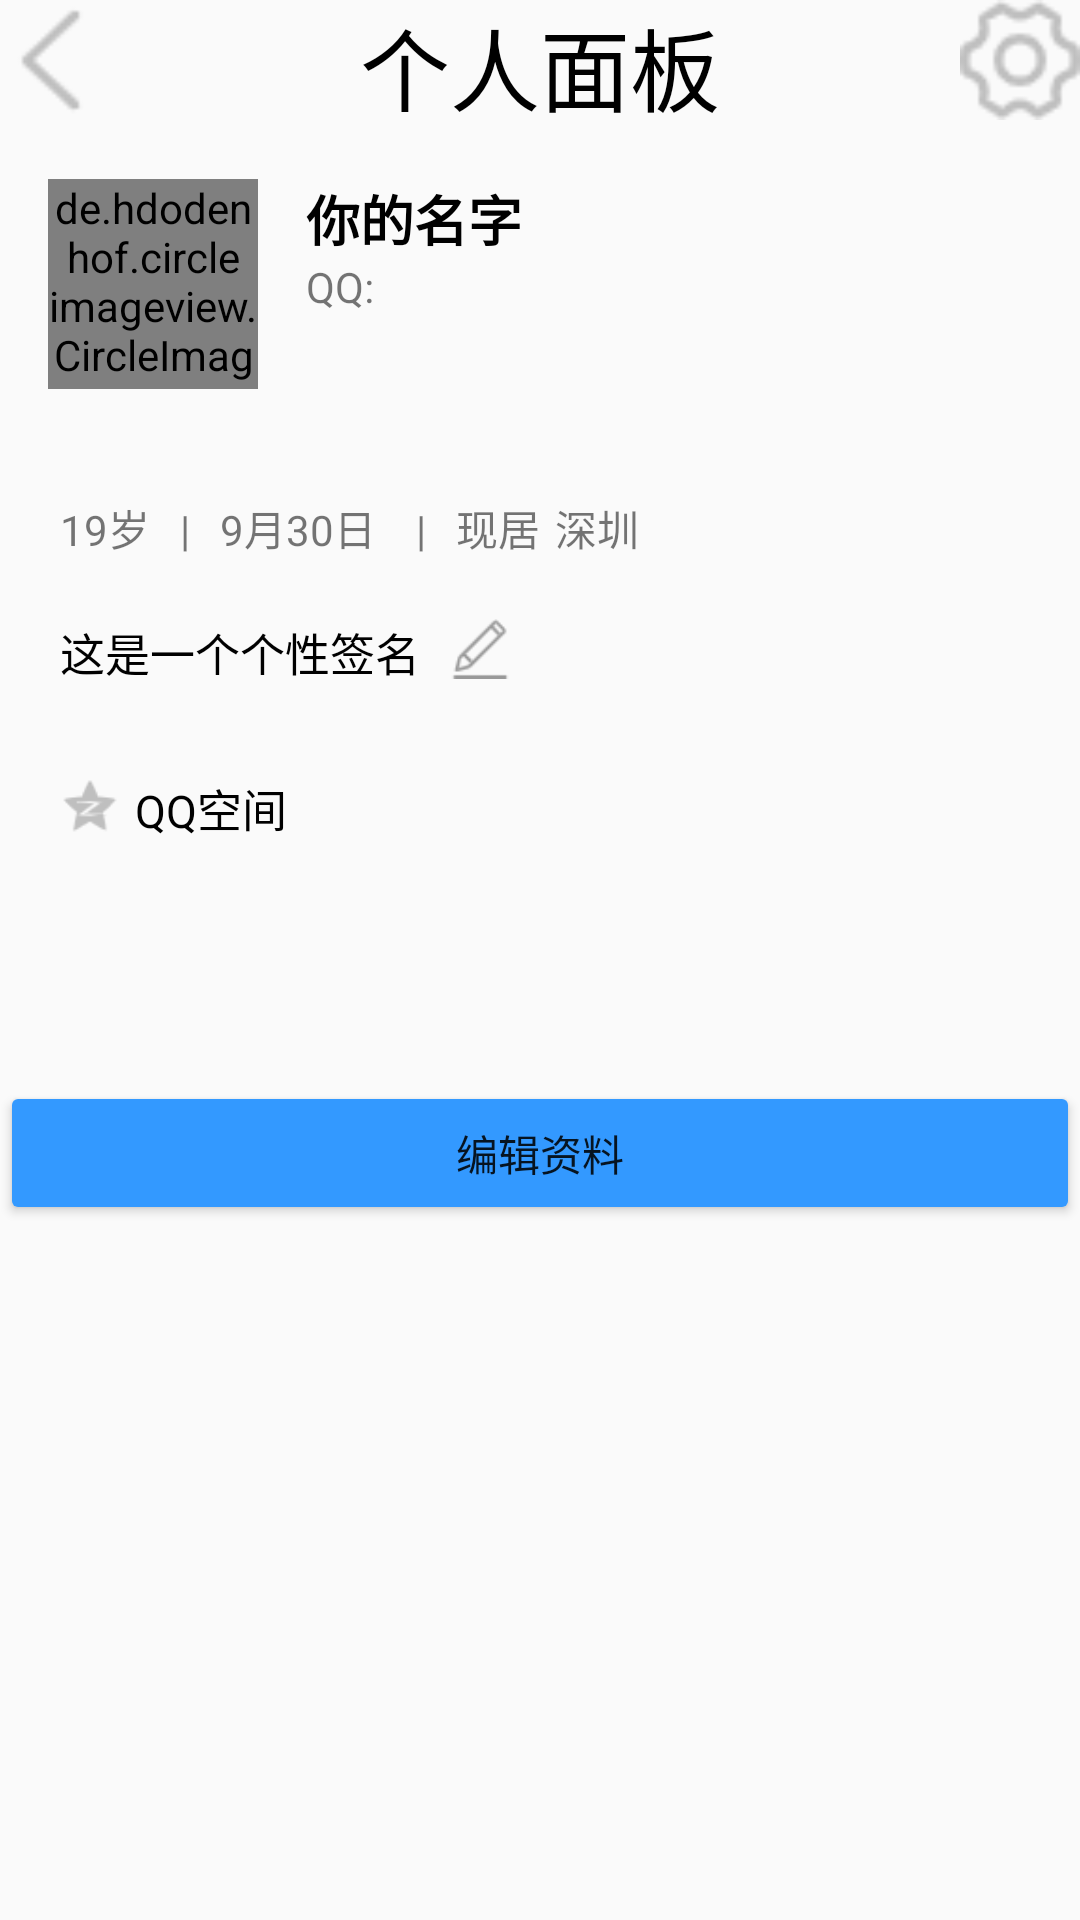

Icons on this 1080x1920 Android screen, each with the point to tap as point (x, y):
back: point (50, 60)
revise: point (480, 649)
setting: point (1020, 60)
